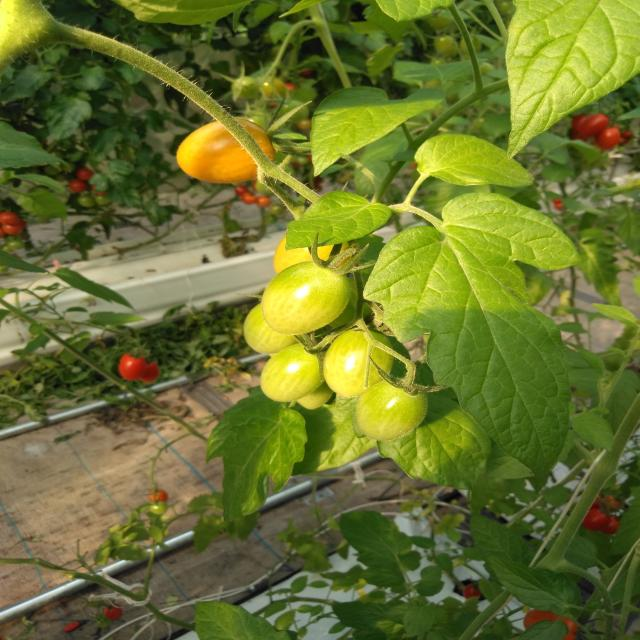yesil: (250, 255, 435, 443)
